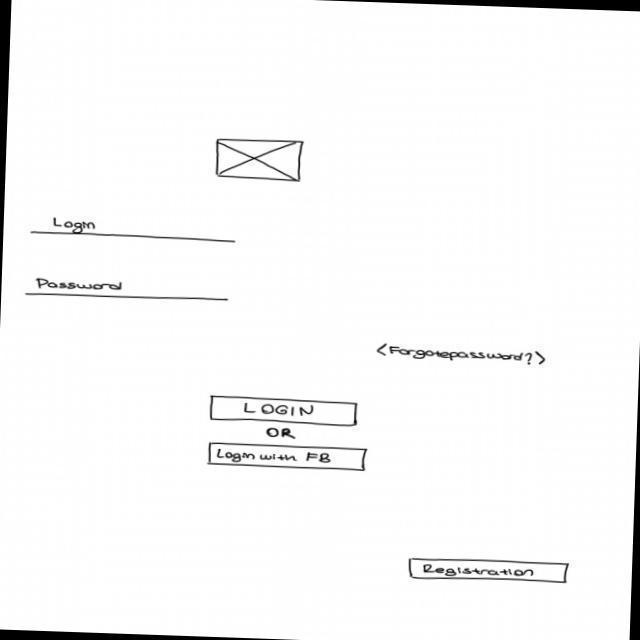button: (208, 441, 371, 472), (209, 395, 361, 428), (407, 556, 571, 586)
image: (215, 137, 307, 184)
input: (29, 216, 238, 246), (23, 275, 232, 303)
label: (265, 427, 299, 442)
link: (377, 343, 549, 367)
